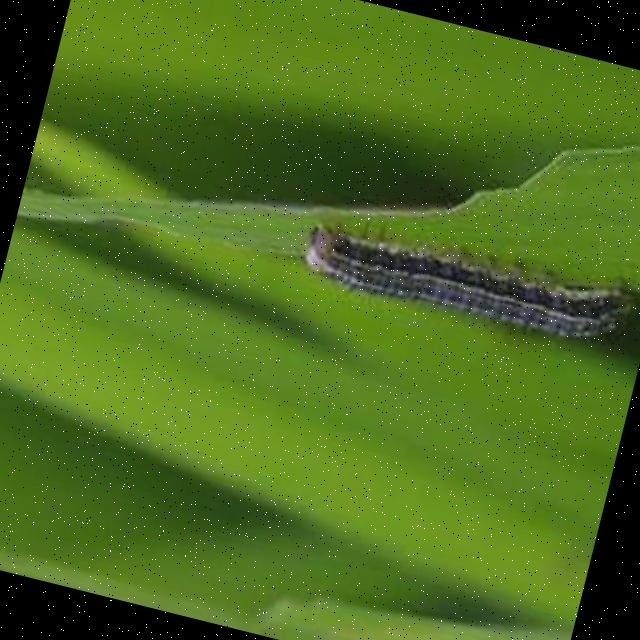worm: (296, 201, 640, 363)
